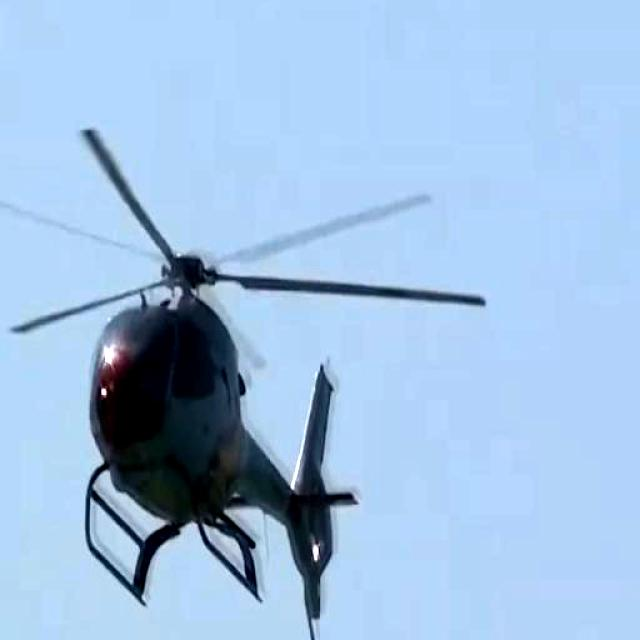drone: (0, 116, 494, 635)
